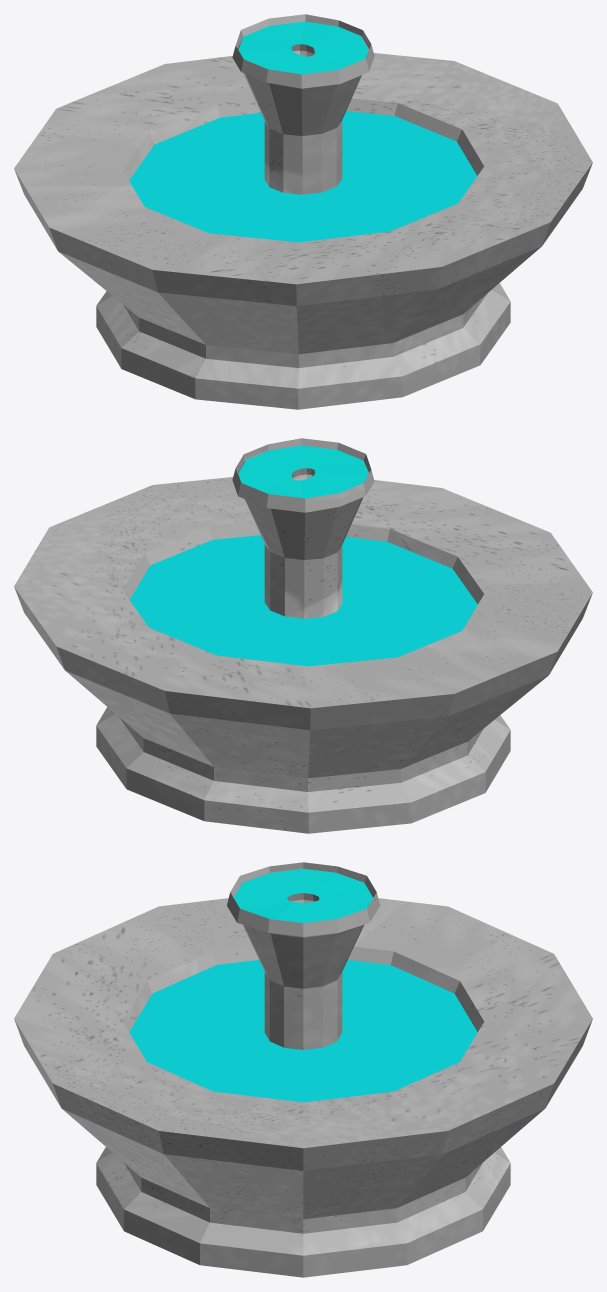
Rendered from fountain_ggj.fbx.
The picture shows the model from 3 angles, top to bottom: view 1: azimuth 30°, elevation 25°; view 2: azimuth 150°, elevation 25°; view 3: azimuth 270°, elevation 25°; orthographic projection. The views are drawn at different scales.
Visible parts, largest first — view 1: Cylinder, Cylinder.001; view 2: Cylinder, Cylinder.001; view 3: Cylinder, Cylinder.001.
Part boxes in pixels (x1=…): Cylinder: x1=14, y1=14, x2=592, y2=409; Cylinder.001: x1=129, y1=111, x2=476, y2=242; Cylinder: x1=14, y1=438, x2=592, y2=833; Cylinder.001: x1=130, y1=535, x2=477, y2=666; Cylinder: x1=14, y1=862, x2=592, y2=1277; Cylinder.001: x1=129, y1=960, x2=477, y2=1102.
Bounding box in the file's own units: 974 × 513 × 919.
